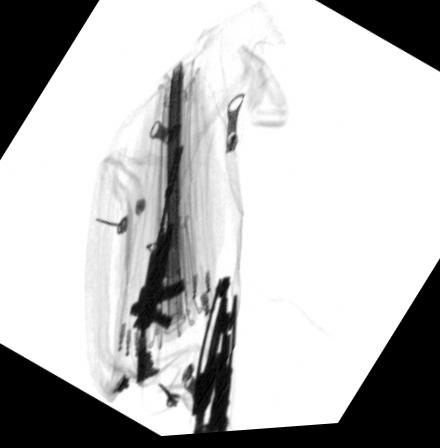Gun: (126, 142, 187, 393)
HandCuffs: (186, 271, 244, 437)
